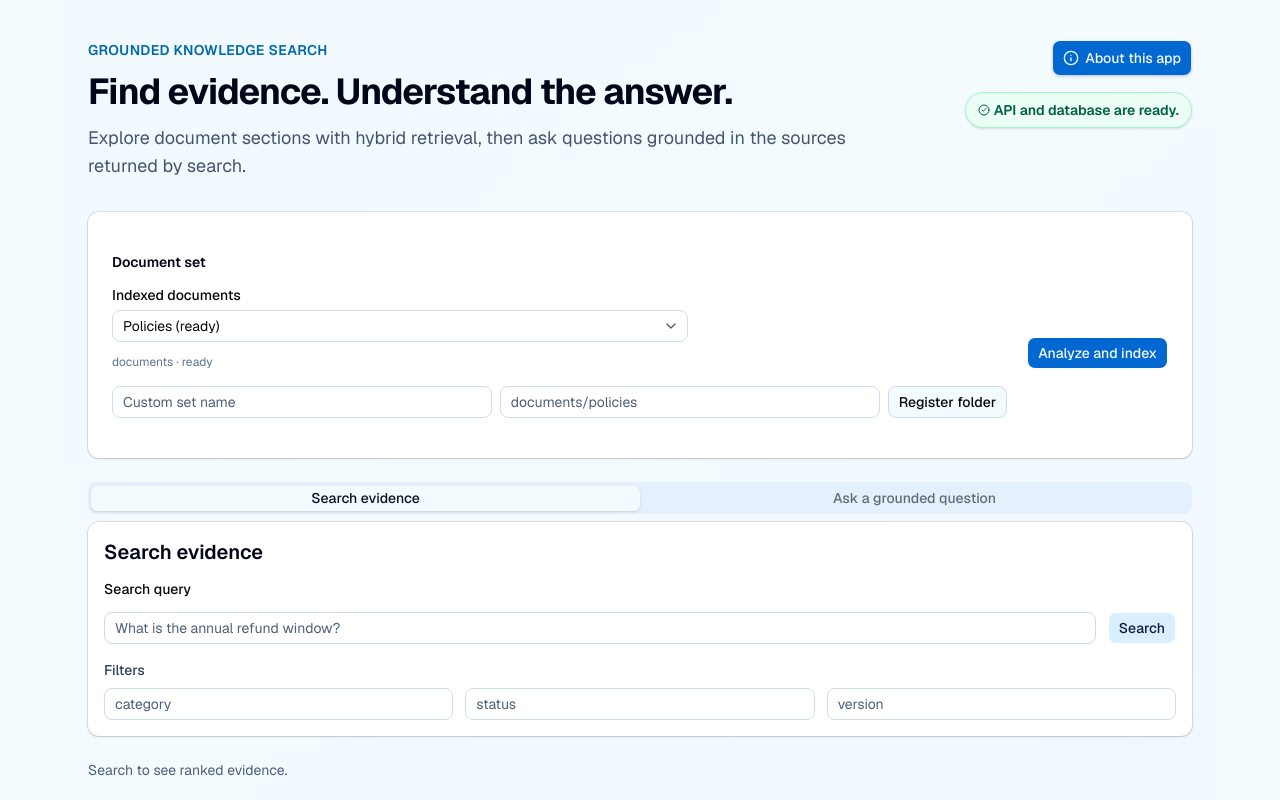
KnowledgeSearchApp › validates and reports custom document-set registration errors
This screenshot has width=1280, height=800.
Check: the dropdown named "Indexed documents" is shown, box x1=112 y1=310 x2=688 y2=342
Step 1. Click the button "Register folder" → (947, 402), box x1=888 y1=386 x2=1007 y2=418
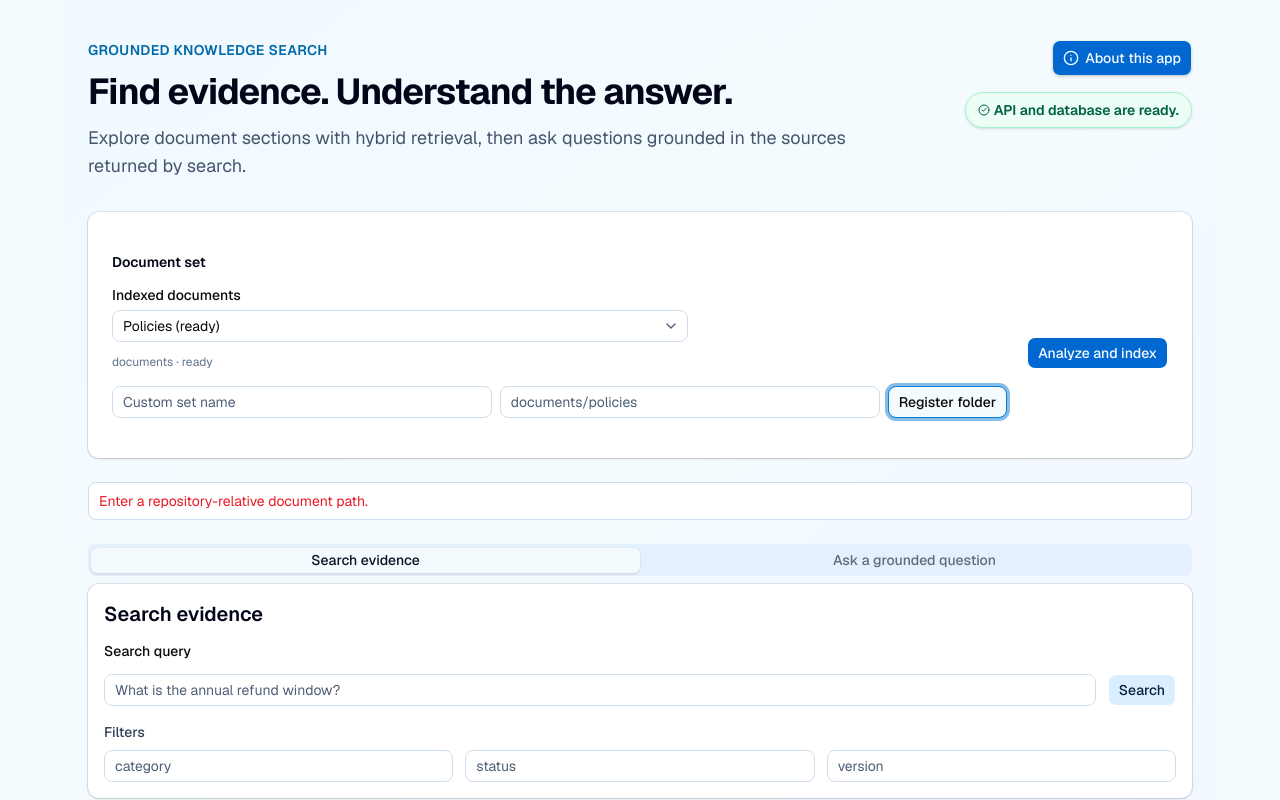
Check: the message "Enter a repository-relative document path." is shown, box x1=88 y1=482 x2=1192 y2=520
Step 2. Type "documents/missing" into the field named "Document set path" → (690, 402), box x1=500 y1=386 x2=880 y2=418
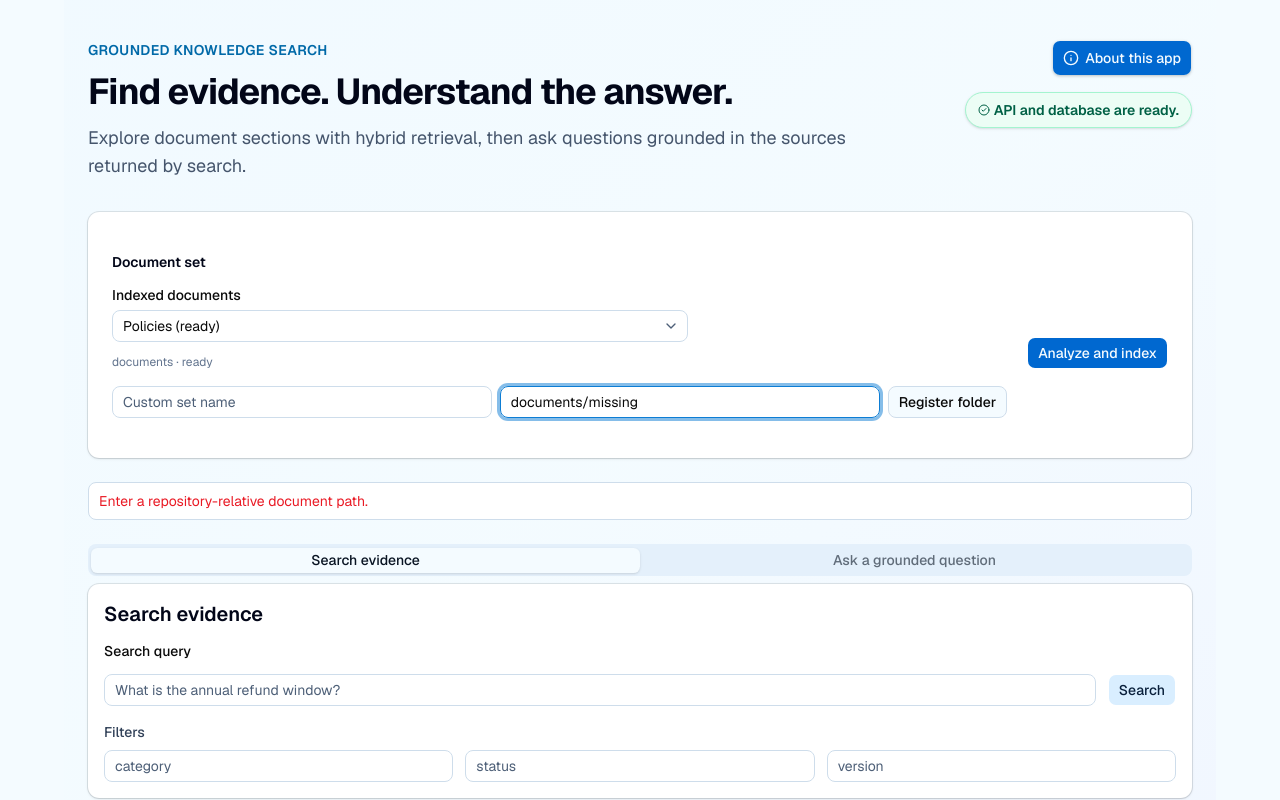
Step 3. Click the button "Register folder" → (947, 402), box x1=888 y1=386 x2=1007 y2=418
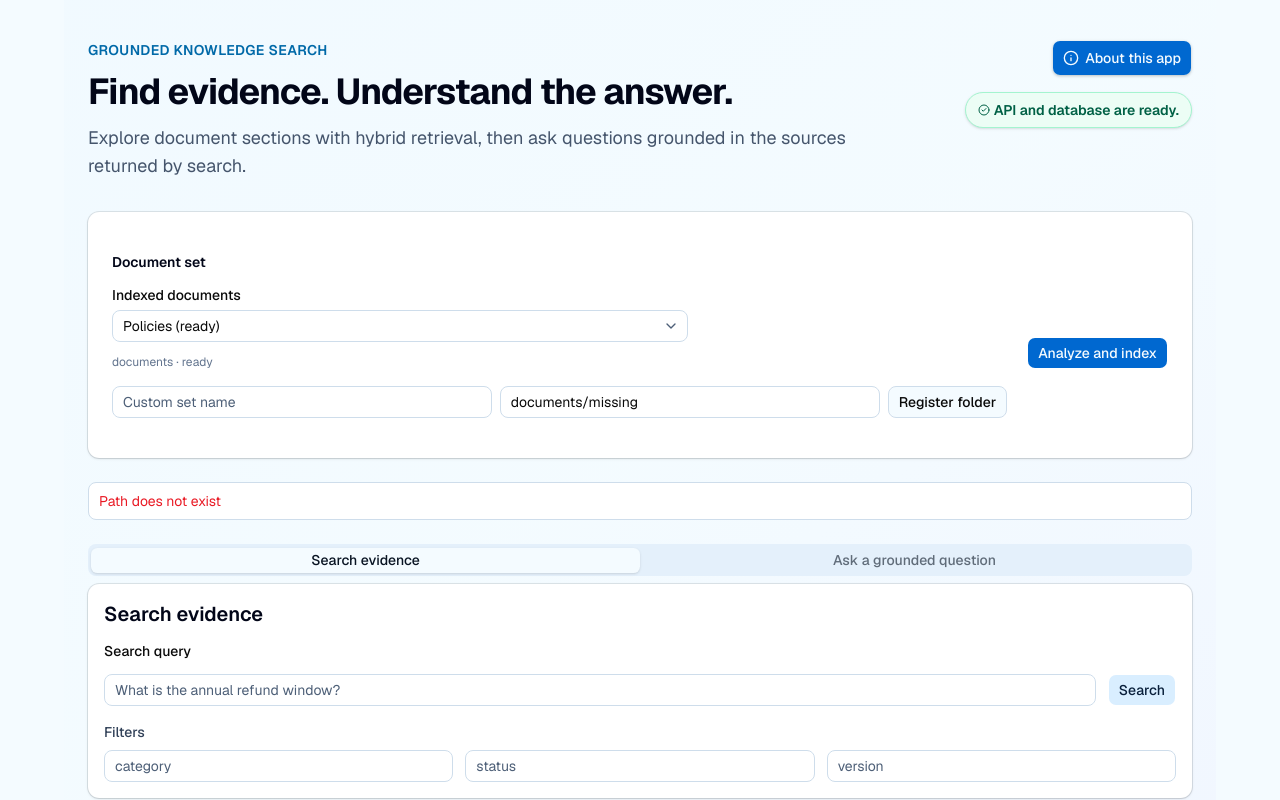
Check: the message "Path does not exist" is shown, box x1=88 y1=482 x2=1192 y2=520
